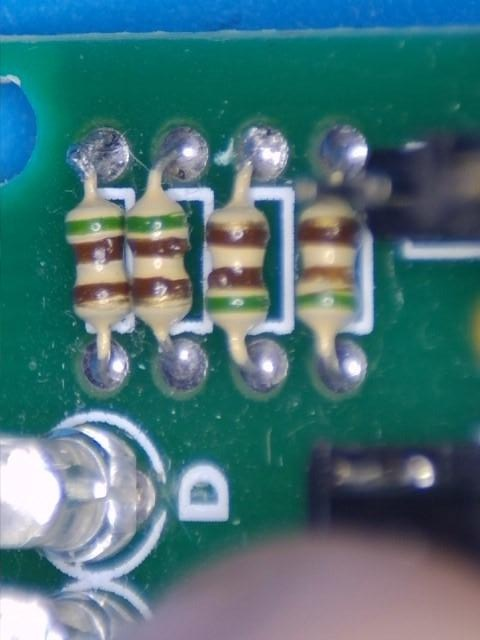pcb_defect: (67, 130, 128, 181)
